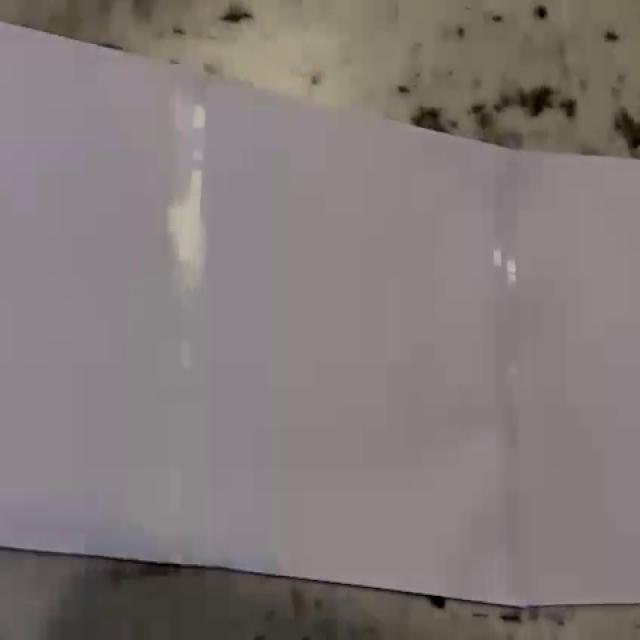road: (0, 23, 640, 607)
